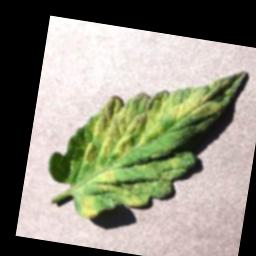Leaf_Mold: (41, 42, 247, 239)
